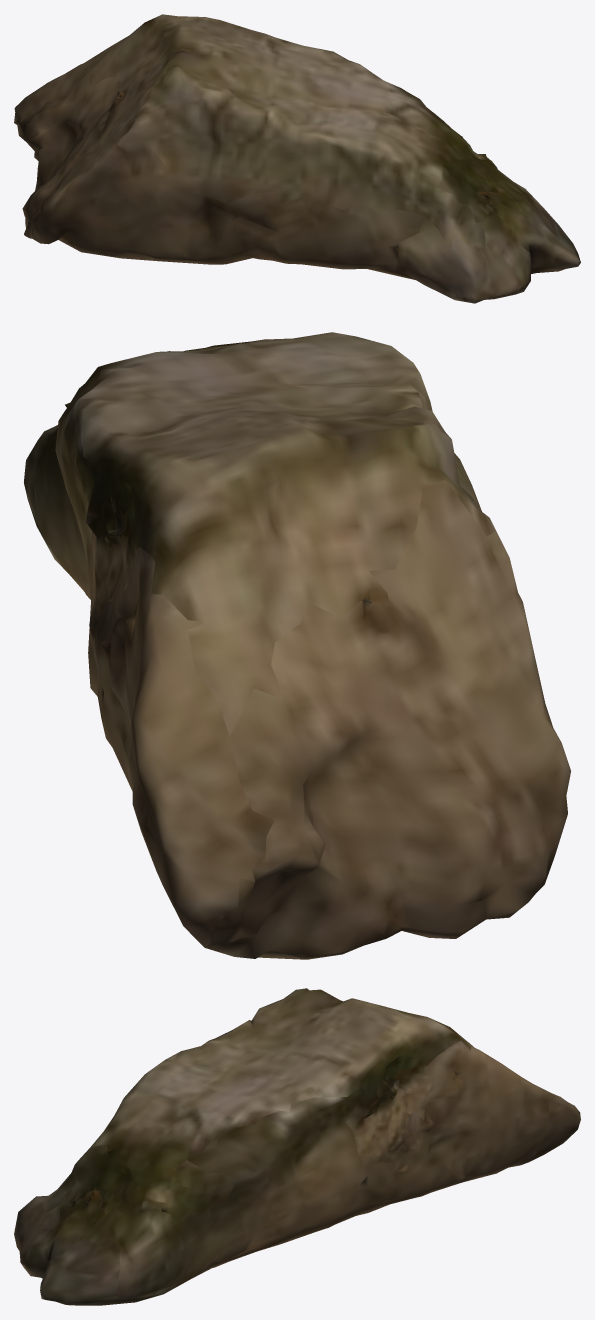
The picture shows the model from 3 angles, top to bottom: view 1: azimuth 30°, elevation 25°; view 2: azimuth 150°, elevation 25°; view 3: azimuth 270°, elevation 25°; orthographic projection. The views are drawn at different scales.
Visible parts, largest first — view 1: rock_moss_set_01__b_lod1; view 2: rock_moss_set_01__b_lod1; view 3: rock_moss_set_01__b_lod1.
Boxes of the visible parts, x1,y1,x2,y2 form: rock_moss_set_01__b_lod1: (14, 14, 580, 303); rock_moss_set_01__b_lod1: (24, 332, 570, 959); rock_moss_set_01__b_lod1: (14, 988, 580, 1305).
Bounding box in the file's own units: 2.64 × 1.26 × 3.25.
1 material, 1 textured.
